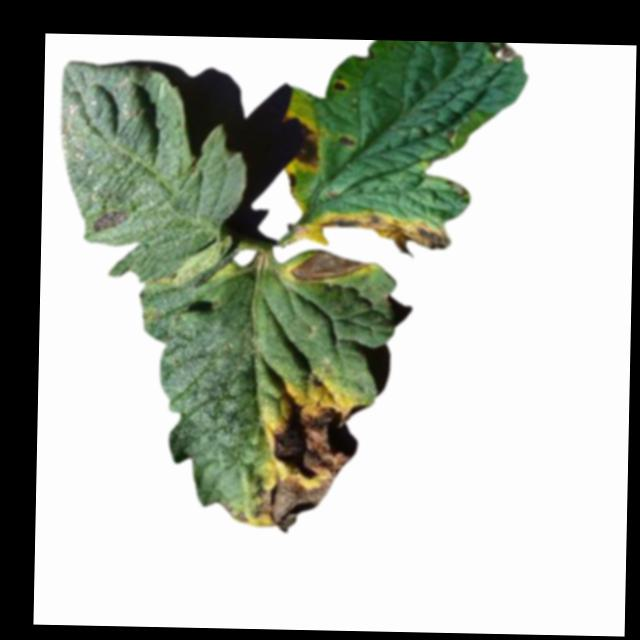Early_blight: (255, 394, 360, 533), (316, 207, 452, 257), (286, 253, 366, 283), (297, 130, 324, 168), (91, 209, 129, 231), (335, 133, 357, 146), (330, 77, 349, 89)
